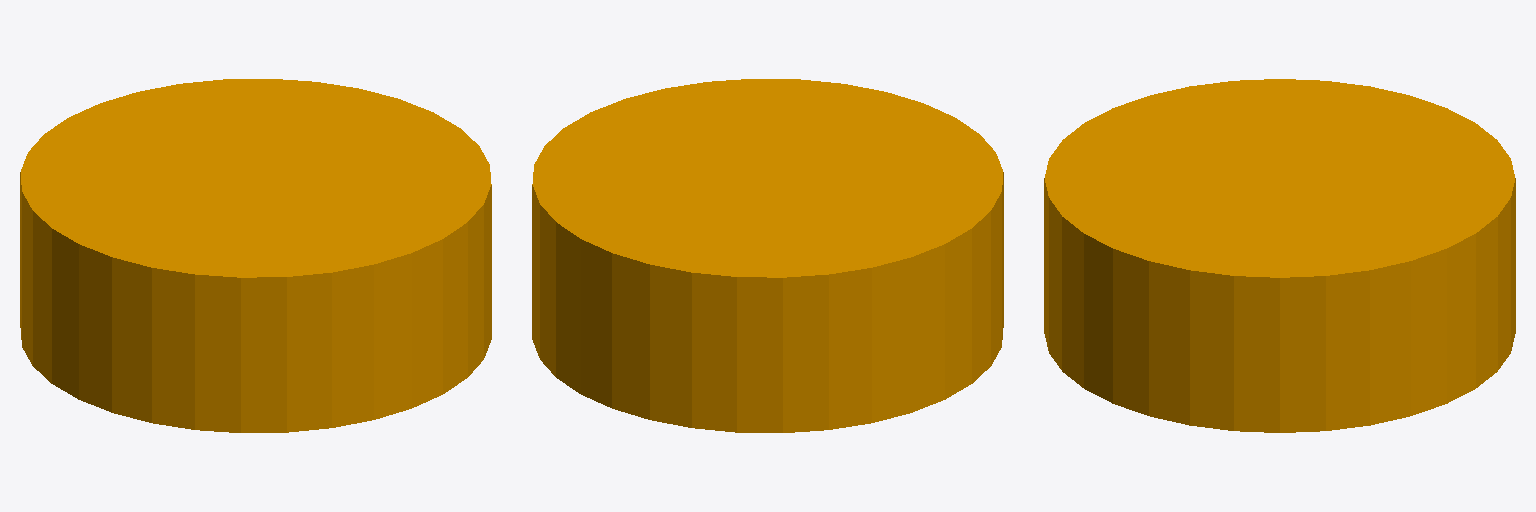
robot.urdf — testing1_cylinder_small:
<?xml version="1.0" ?>
<robot name="testing1_cylinder_small">

    <link name="testing1_cylinder_small">
        <visual>
            <origin rpy="1.5707963267948966 0 0" xyz="0 0 0"/>
            <geometry>
                <mesh filename="obj_files/testing1_cylinder_small.obj" scale="1 1 1"/>
            </geometry>
        </visual>
        <collision>
            <geometry>
                <mesh filename="obj_files/testing1_cylinder_small_collision.obj" scale="1 1 1"/>
            </geometry>
        </collision>
    </link>

</robot>

--- Render facts (derived) ---
3 views of the same robot in one strip: view 1: azimuth 30°, elevation 25°; view 2: azimuth 150°, elevation 25°; view 3: azimuth 270°, elevation 25° (orthographic).
Robot: testing1_cylinder_small — 1 links, 0 joints (none); root link testing1_cylinder_small; default pose: all joints at 0.
Links seen in each view (by area): view 1: testing1_cylinder_small; view 2: testing1_cylinder_small; view 3: testing1_cylinder_small.
Link boxes in pixels (left/top/right/bottom): testing1_cylinder_small: left=20, top=79, right=491, bottom=432; testing1_cylinder_small: left=532, top=79, right=1003, bottom=432; testing1_cylinder_small: left=1044, top=79, right=1515, bottom=432.
Bounding box of the posed robot: 0.165 × 0.165 × 0.06 m (x, y, z).
Meshes: 1 distinct files referenced, 1 mesh visuals loaded (1 OBJ).